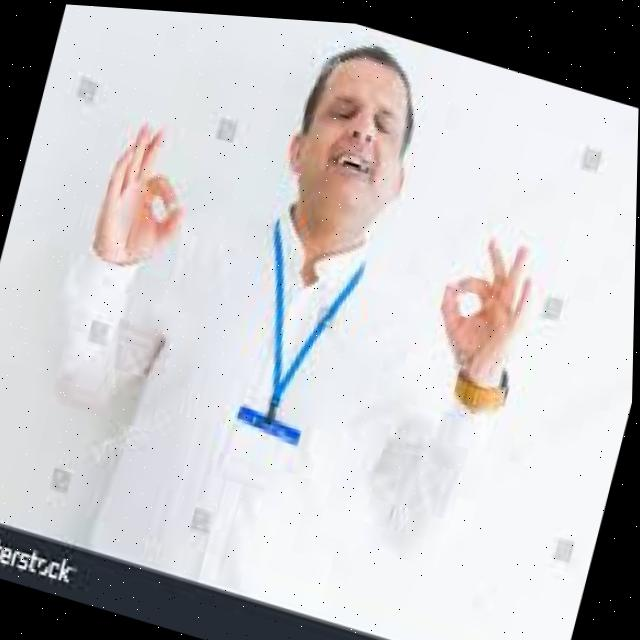id_card: (209, 209, 366, 505)
